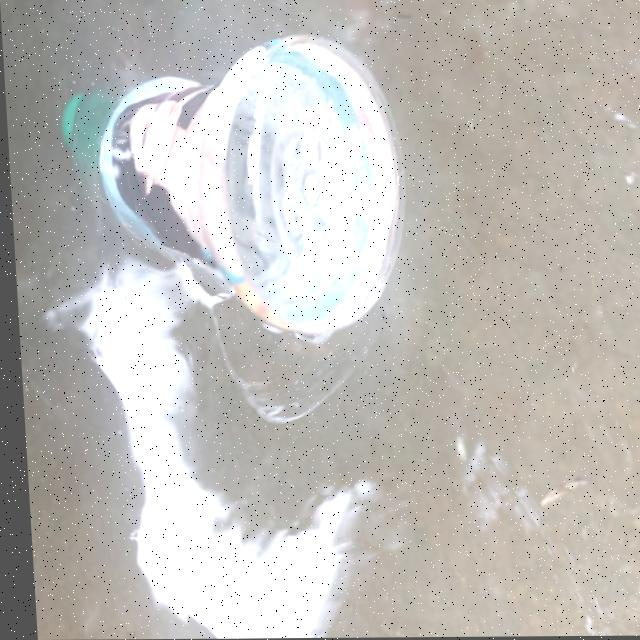waterbottle: (31, 16, 405, 332)
